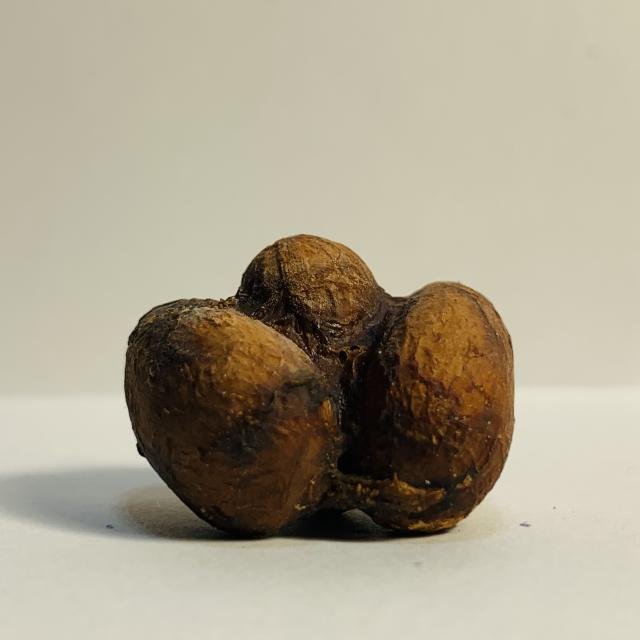Agglomerated_cocoabeans: (0, 210, 613, 574)
